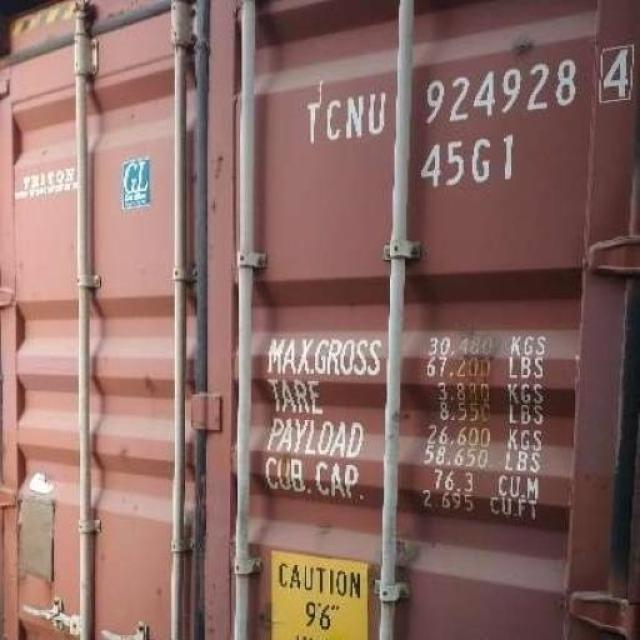ISO: (416, 132, 530, 191), (306, 602, 338, 628)
container_number: (296, 48, 639, 146), (278, 568, 362, 596)
